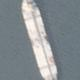ship: (0, 0, 25, 40)
